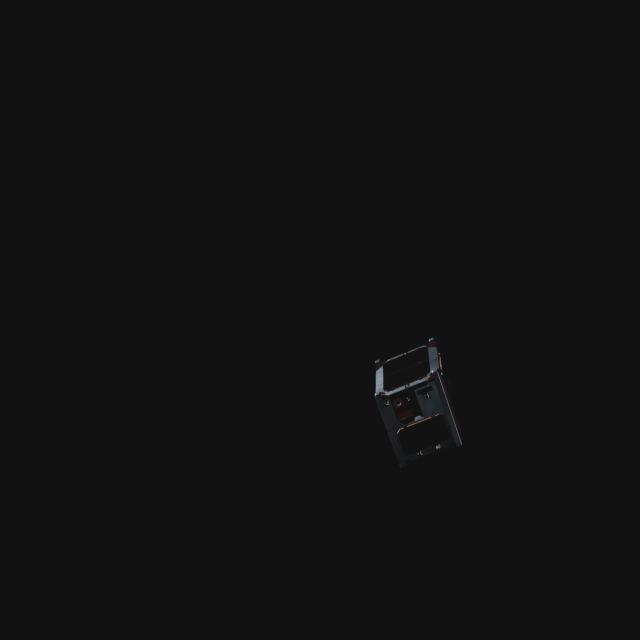satellite: (360, 336, 476, 475)
